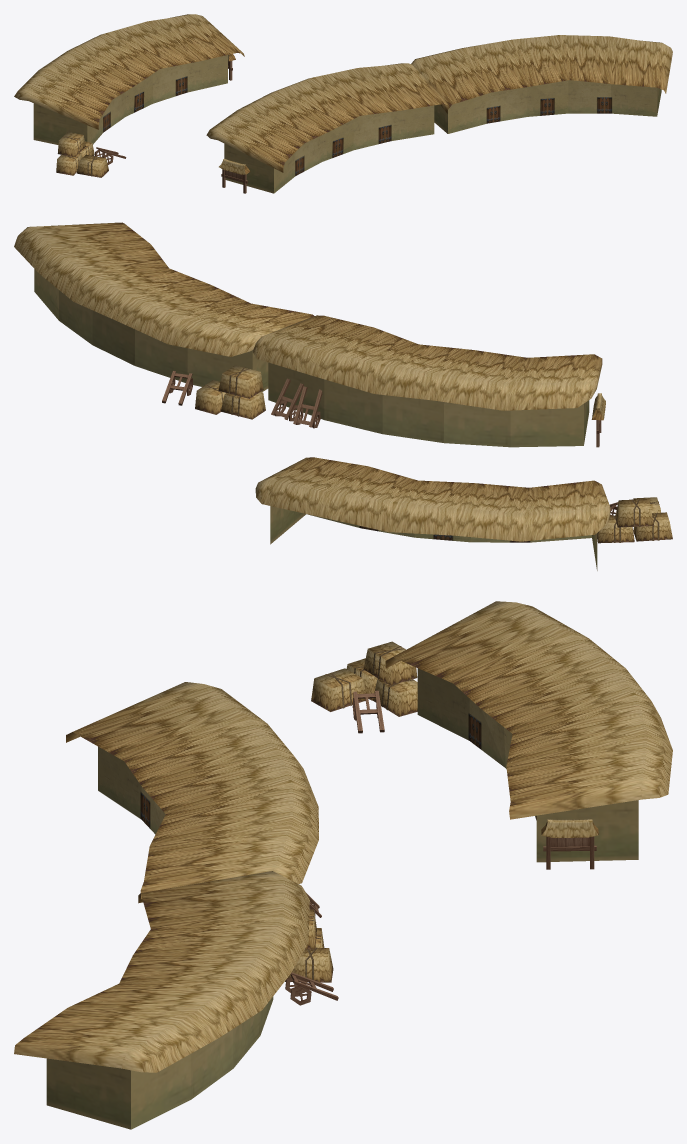
File: Area_06_9.fbx
3 views of the same model, one above another, from view 1: azimuth 30°, elevation 25°; view 2: azimuth 150°, elevation 25°; view 3: azimuth 270°, elevation 25° (orthographic). The views are drawn at different scales.
Parts seen in each view (by area): view 1: Area_06_9; view 2: Area_06_9; view 3: Area_06_9.
Boxes of the visible parts, x1,y1,x2,y2 form: Area_06_9: (14, 14, 672, 193); Area_06_9: (14, 222, 672, 570); Area_06_9: (14, 601, 672, 1129).
Bounding box in the file's own units: 5823 × 565 × 3513.
